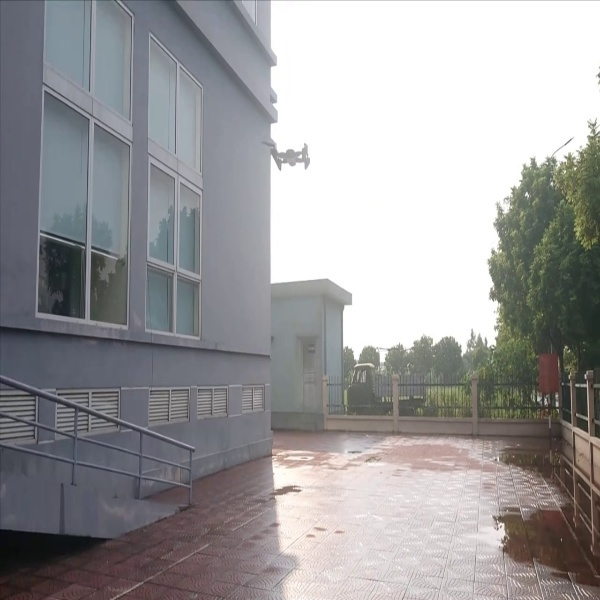drone: (259, 131, 313, 176)
